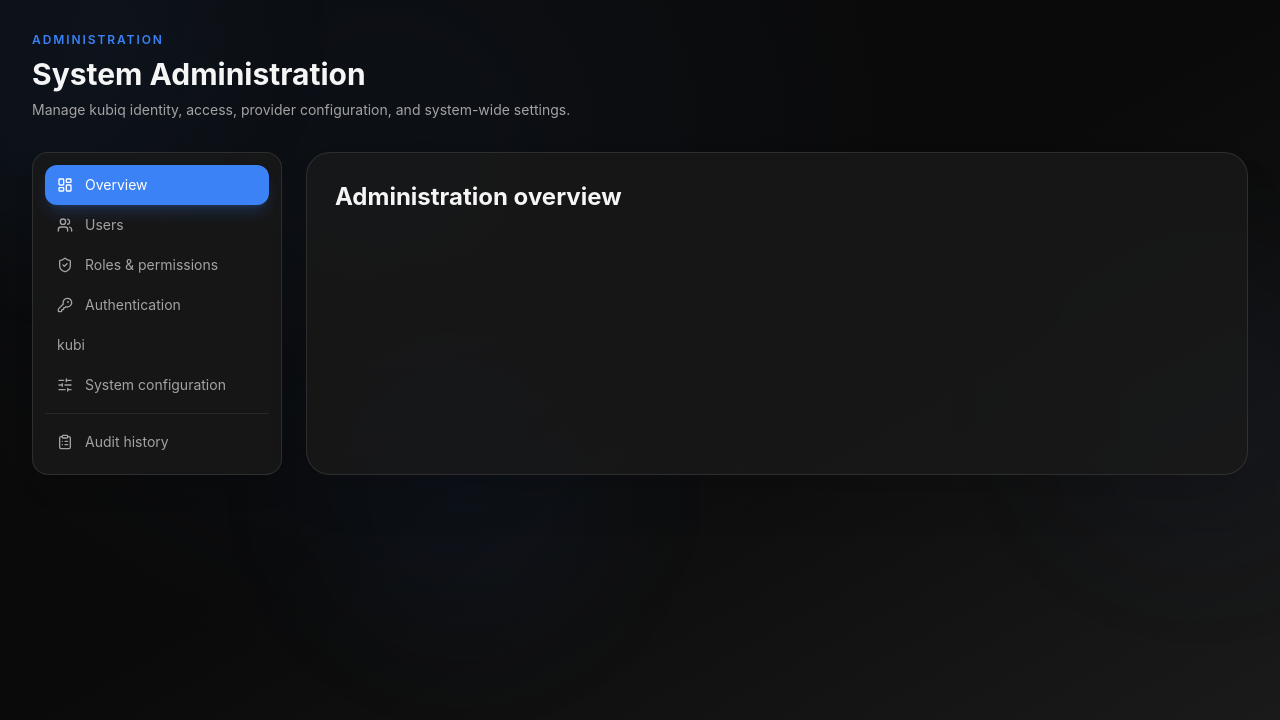
Test: system administration compatibility › retains Keycloak health precedence for {"selected":false,"reachable":true}
The image size is (1280, 720).
What coordinates should you click on to do the following:
click the button "Authentication"
I would click on:
 (157, 305)
Its box is [45, 285, 269, 325].
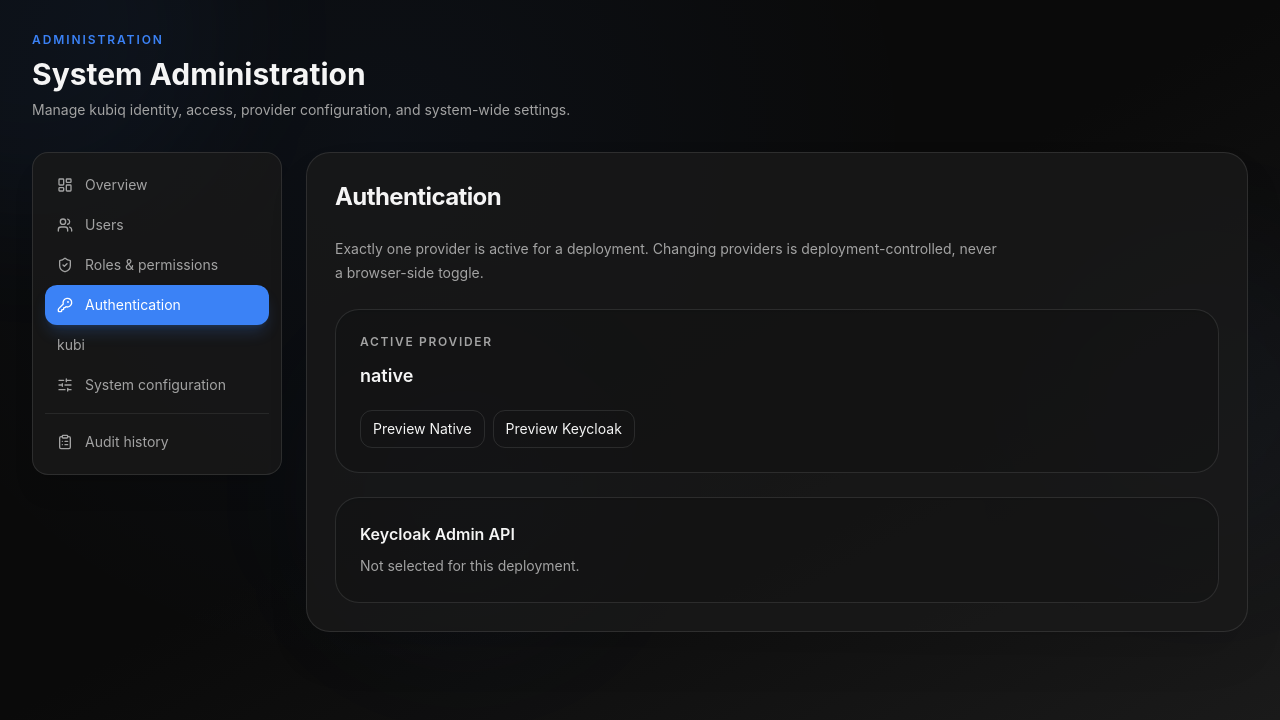
Expected: the text "Not selected for this deployment." is shown, [360, 557, 580, 574]
